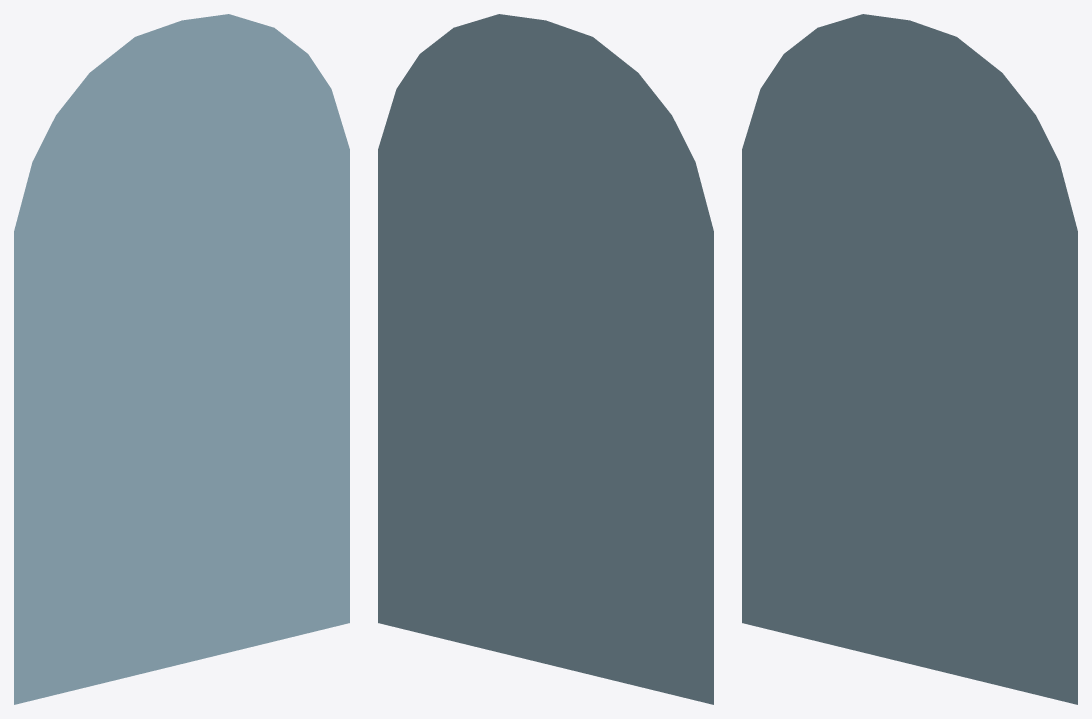
Rendered from FairyTale352.gltf.
3 views of the same model, side by side, from view 1: azimuth 30°, elevation 25°; view 2: azimuth 150°, elevation 25°; view 3: azimuth 330°, elevation 25° (orthographic).
Visible parts, largest first — view 1: 网格256; view 2: 网格256; view 3: 网格256.
Part boxes in pixels (x1=…): 网格256: x1=14, y1=14, x2=349, y2=704; 网格256: x1=378, y1=14, x2=713, y2=704; 网格256: x1=742, y1=14, x2=1077, y2=704.
Size of the model in its own units: 0.71 by 1.3 by 2.18e-07.
